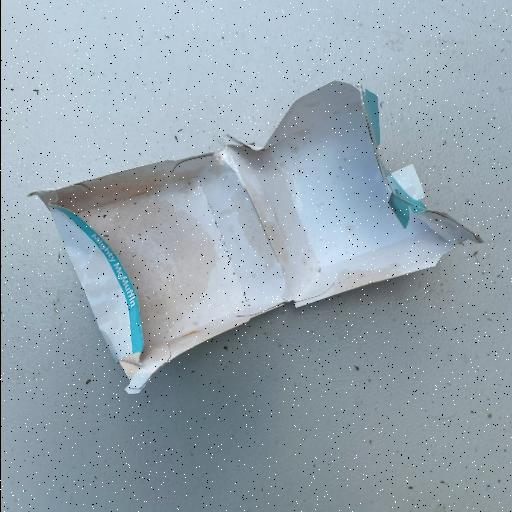Cardboard: (28, 79, 482, 397)
